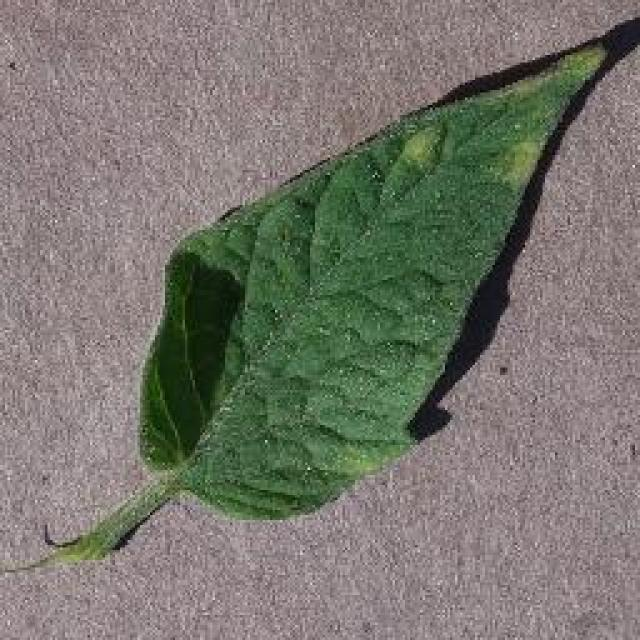Tom_Leaf_Mold: (402, 78, 552, 194)
